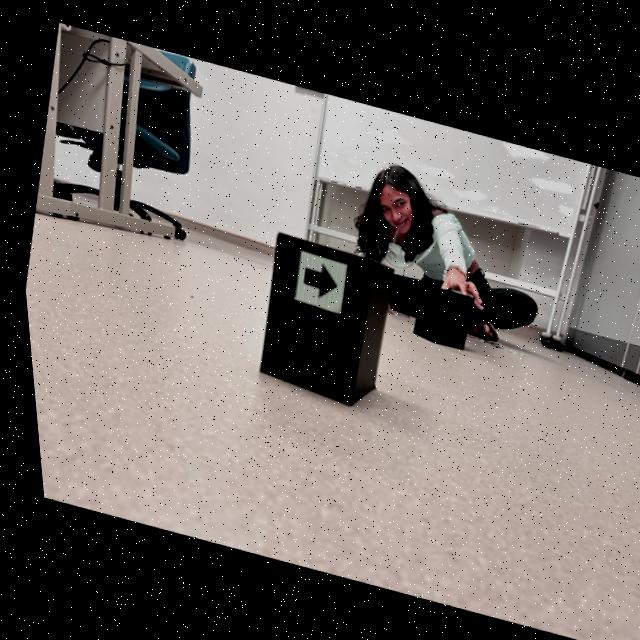RIGHT: (298, 260, 331, 295)
